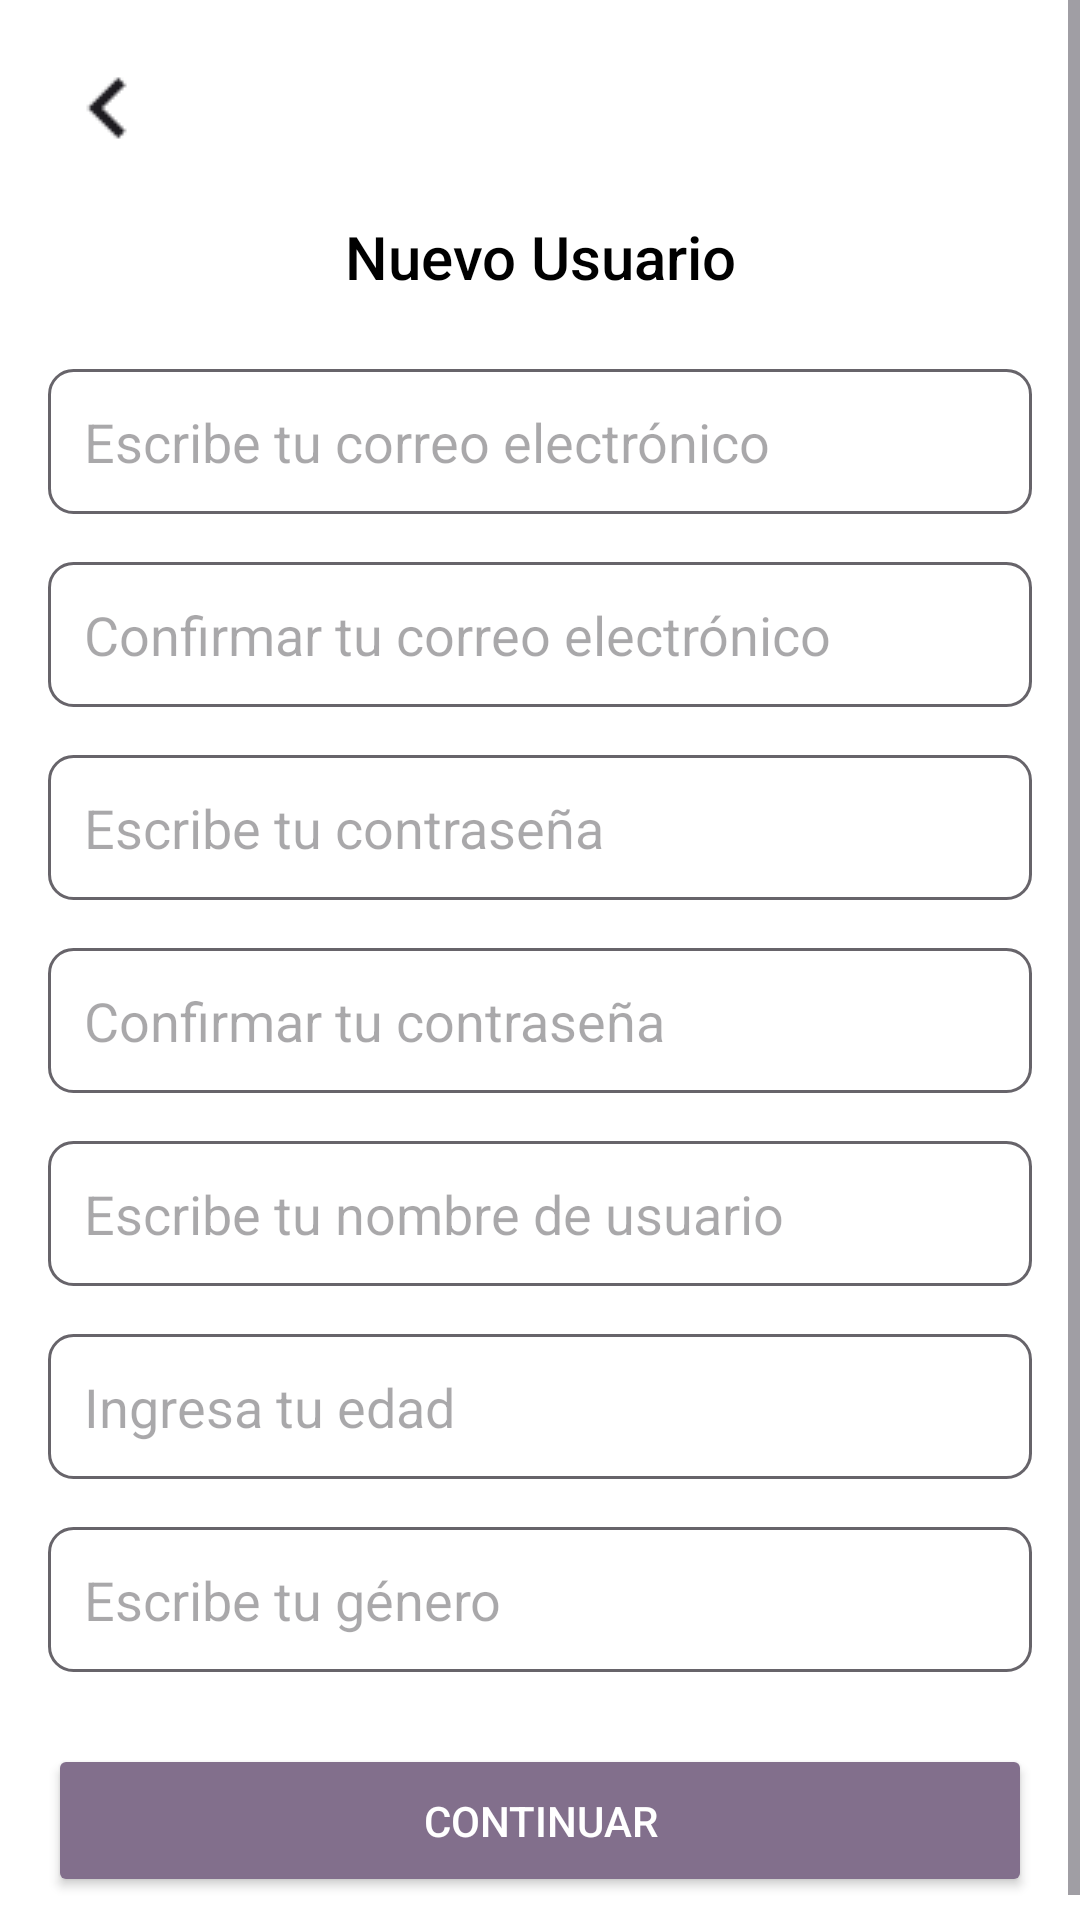

Icons on this 1080×1920 Android screen, each with the point to tap as point (x, y):
Retroceso: point (107, 108)
